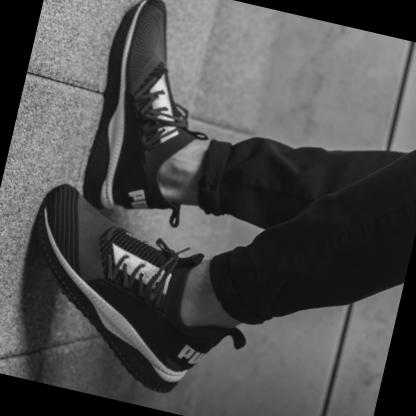ankle: (182, 322, 186, 327), (156, 170, 160, 175)
heel: (115, 198, 120, 203), (175, 378, 179, 381)
left_foot: (6, 189, 235, 400)
pinky: (162, 17, 166, 24), (51, 230, 56, 235)
right_foot: (84, 1, 224, 223)
toe: (143, 13, 149, 18), (78, 199, 83, 204)
